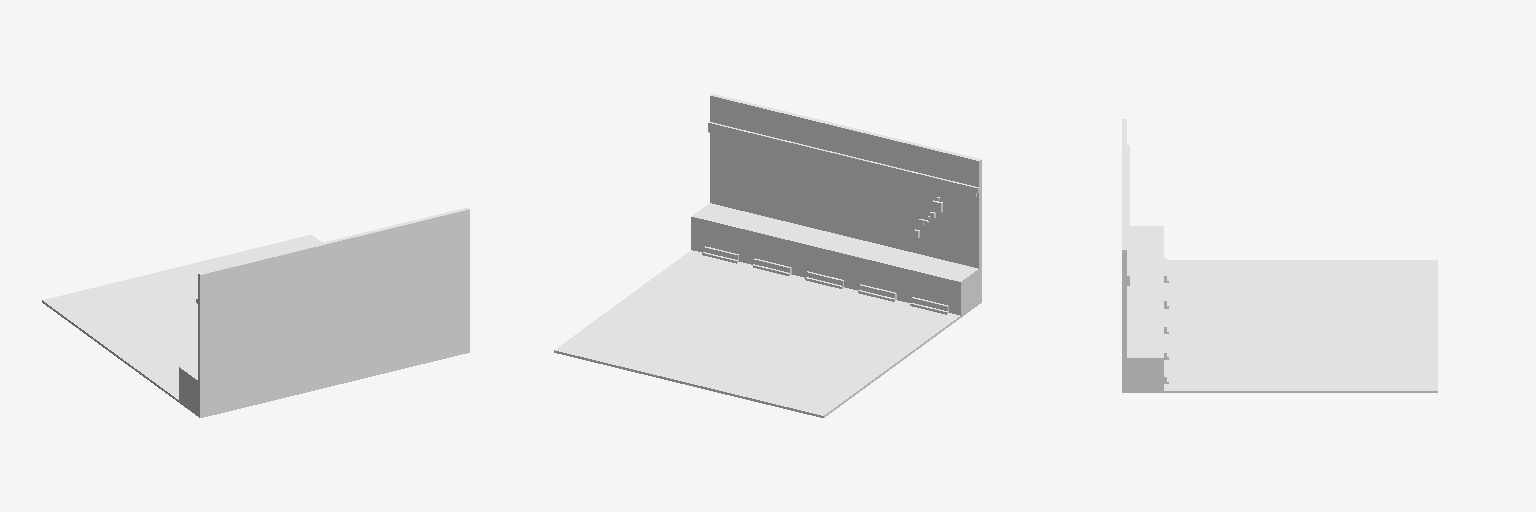
File: Tunnel2.obj
3 renders of one model, left to right at view 1: azimuth 30°, elevation 25°; view 2: azimuth 150°, elevation 25°; view 3: azimuth 270°, elevation 25°, orthographic.
Parts seen in each view (by area): view 1: object 1; view 2: object 1; view 3: object 1.
Part boxes in pixels (left/top/right/bottom): object 1: left=42, top=208, right=469, bottom=417; object 1: left=554, top=94, right=981, bottom=417; object 1: left=1122, top=119, right=1437, bottom=392.
Bounding box in the file's own units: 11.8 × 6 × 12.